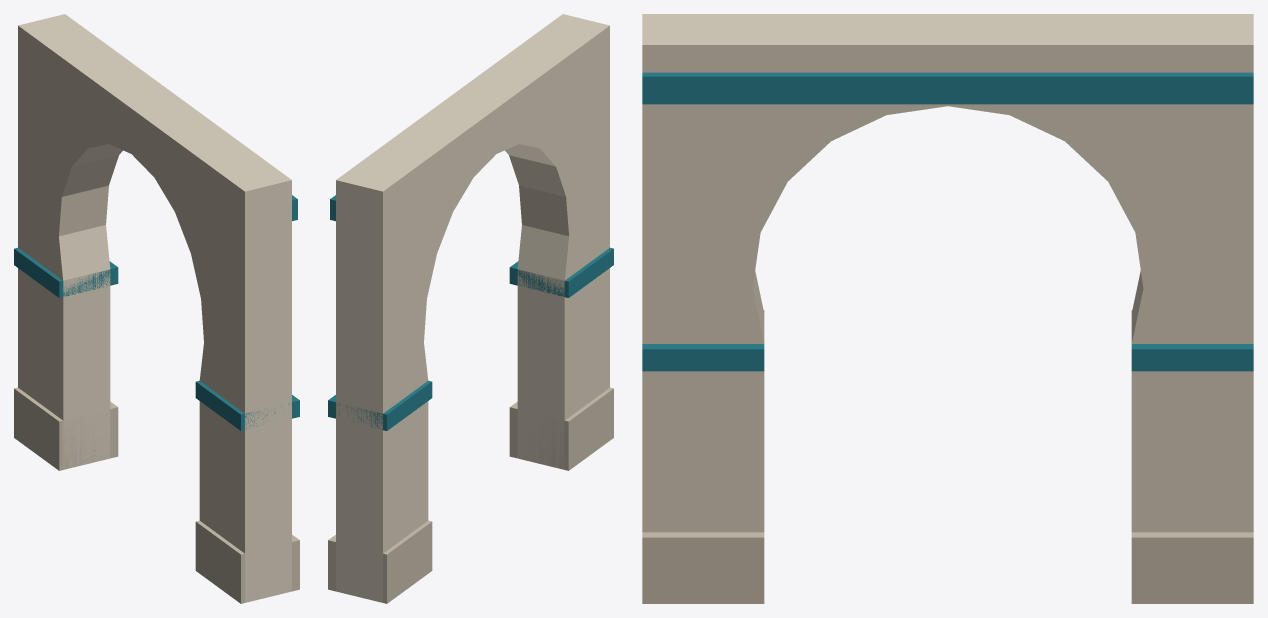
File: wall-arcade.glb
The picture shows the model from 3 angles, left to right: view 1: azimuth 30°, elevation 25°; view 2: azimuth 150°, elevation 25°; view 3: azimuth 270°, elevation 25°; orthographic projection. The views are drawn at different scales.
Visible parts, largest first — view 1: wall-arcade; view 2: wall-arcade; view 3: wall-arcade.
Boxes of the visible parts, box(x1,y1,x2,y2) form: wall-arcade: box(14, 14, 299, 603); wall-arcade: box(328, 14, 613, 603); wall-arcade: box(642, 14, 1253, 603).
Bounding box in the file's own units: 0.15 × 1 × 1.
